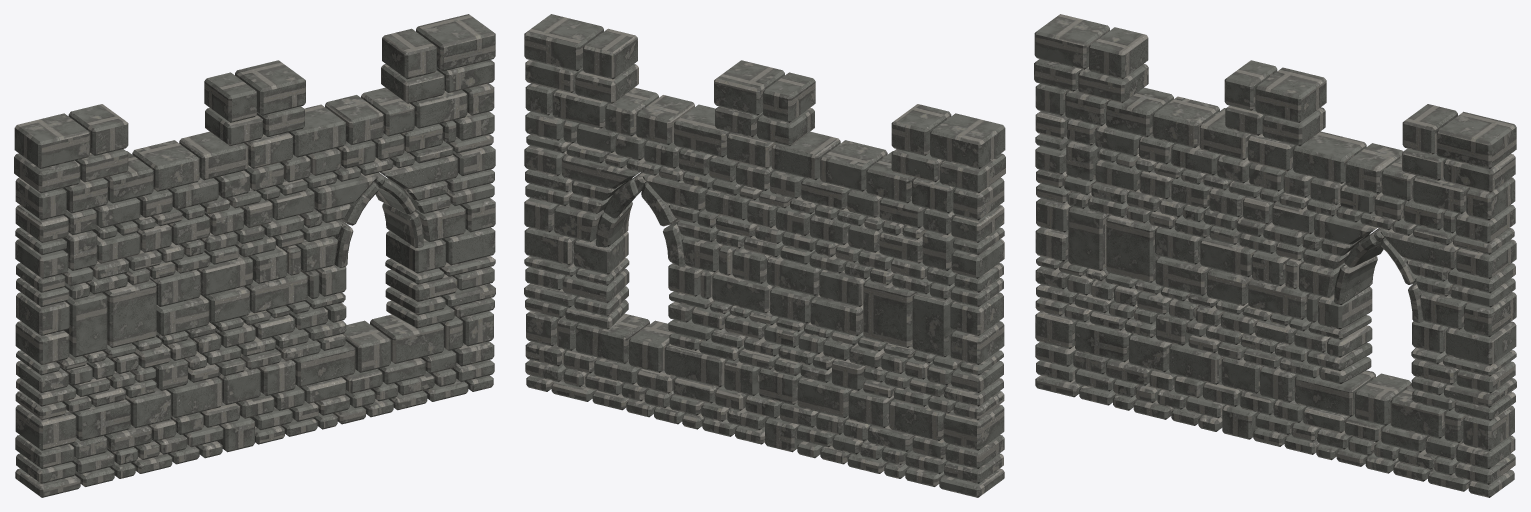
Rendered from CastleWindow.fbx.
3 views of the same model, side by side, from view 1: azimuth 30°, elevation 25°; view 2: azimuth 150°, elevation 25°; view 3: azimuth 330°, elevation 25° (orthographic).
Visible parts, largest first — view 1: WallSingle; view 2: WallSingle; view 3: WallSingle.
Part boxes in pixels (x1,y1,x2,y2): WallSingle: [14, 14, 495, 497]; WallSingle: [524, 14, 1005, 497]; WallSingle: [1034, 14, 1516, 497].
Bounding box in the file's own units: 2000 × 1489 × 210.
1 material, 1 textured.
